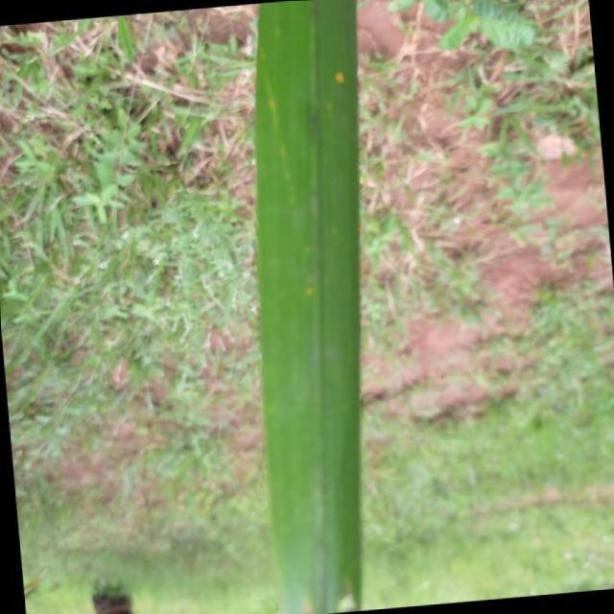Kalium: (254, 0, 366, 614)
